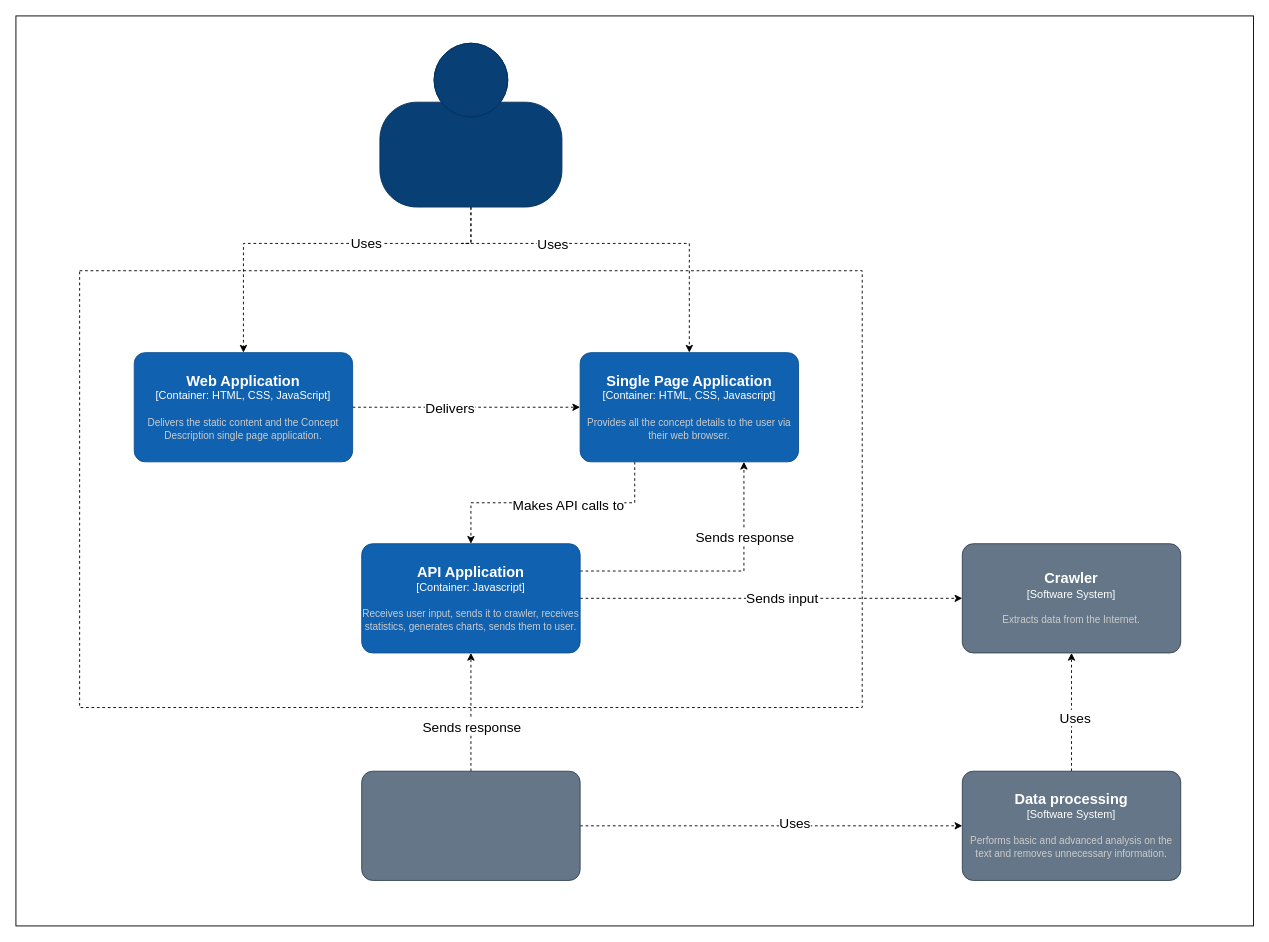
This 1269x942 diagram has some shape labels left out. Here are the shapes that lost their labels. From the top down, the box of each, then its label:
(379, 42, 562, 207): User [Person] Person interested in comparing concepts.
(361, 770, 580, 880): Statistics [Software System] Generates statistics based on the processed data.
